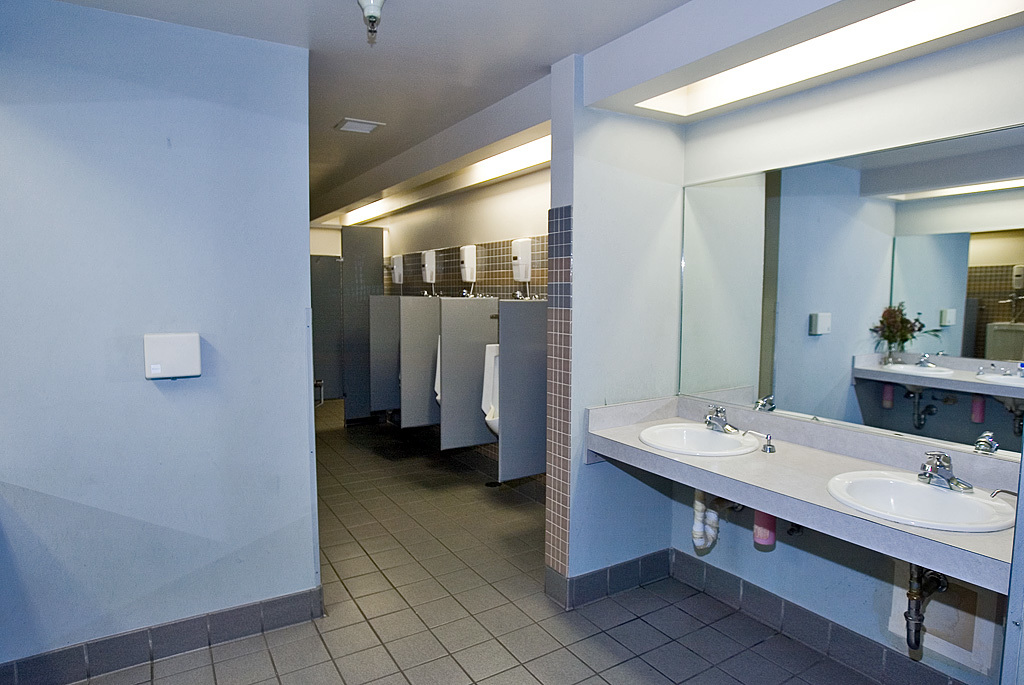tap: (919, 444, 956, 478), (702, 406, 739, 437)
